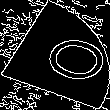O_NW: (12, 24, 98, 86)
